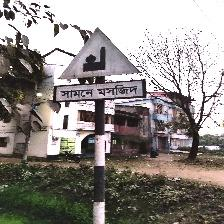Mosque in front: (56, 27, 145, 108)
